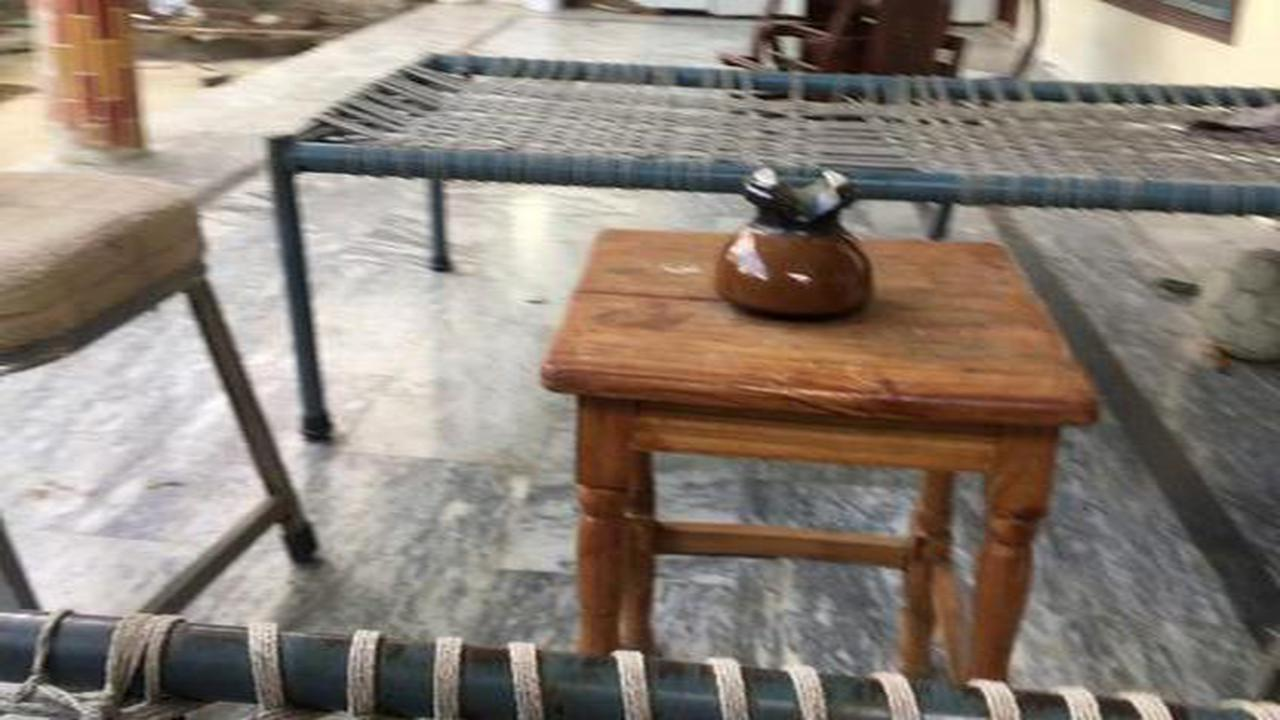insulator_pin: (708, 148, 890, 331)
